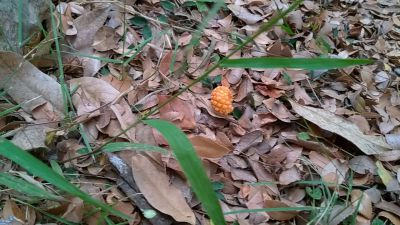eggs: (206, 84, 237, 118)
